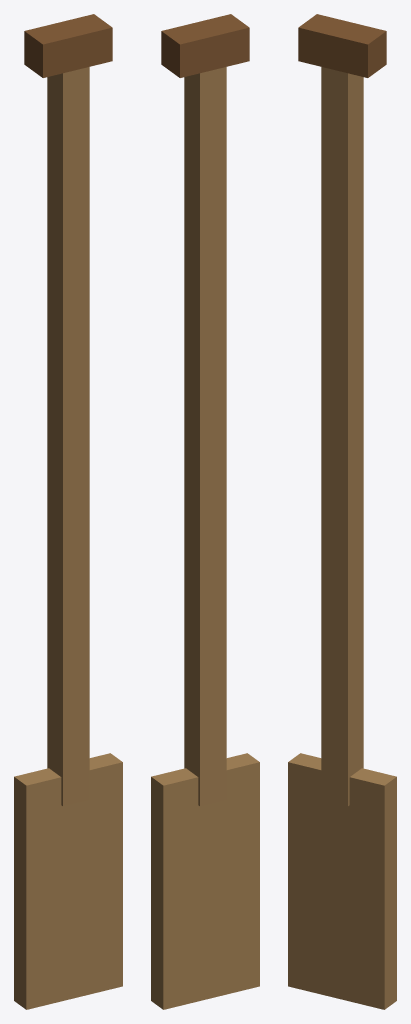
The model's file is crf_paddle.glb.
3 renders of one model, left to right at view 1: azimuth 30°, elevation 25°; view 2: azimuth 210°, elevation 25°; view 3: azimuth 330°, elevation 25°, orthographic.
Visible parts, largest first — view 1: crf_paddle; view 2: crf_paddle; view 3: crf_paddle.
Part boxes in pixels (<box>): crf_paddle: <box>14,14,122,1009</box>; crf_paddle: <box>151,14,259,1009</box>; crf_paddle: <box>288,14,396,1009</box>.
Bounding box in the file's own units: 0.036 × 0.344 × 0.012.
